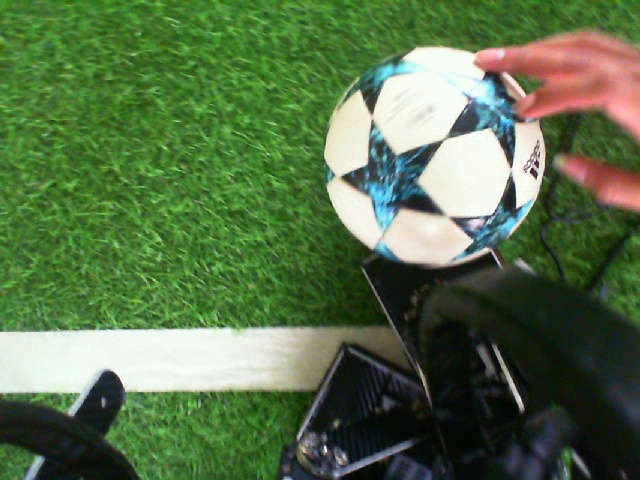ball: (322, 42, 549, 270)
